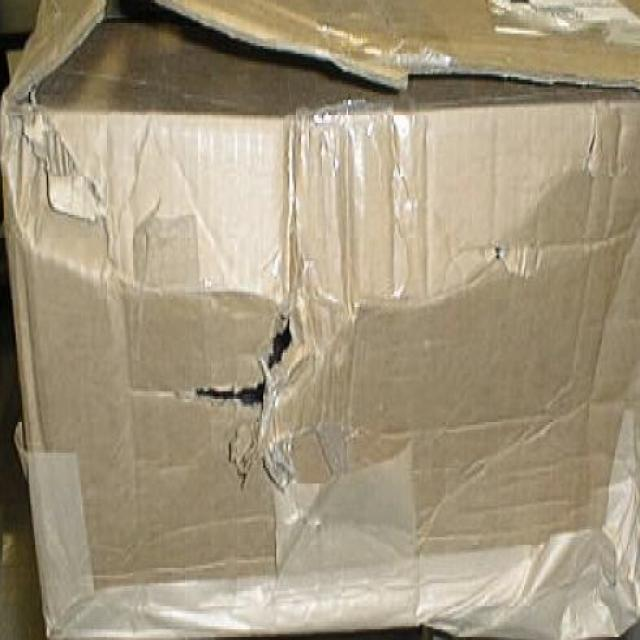hole: (178, 296, 326, 436)
